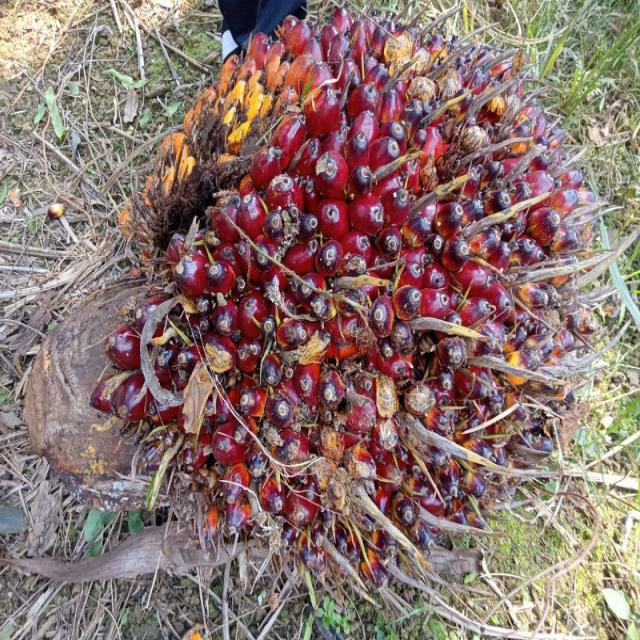fraksi 1: (78, 6, 610, 616)
